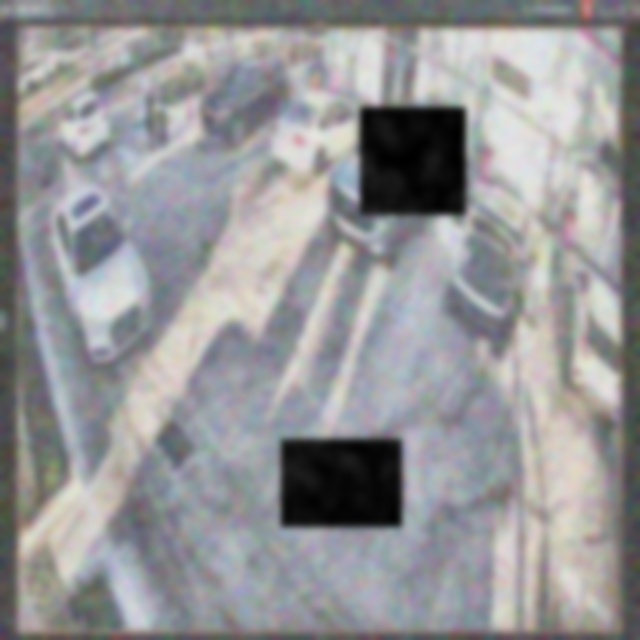Car: (328, 102, 451, 270), (50, 186, 153, 364), (443, 169, 531, 344), (273, 92, 367, 175)
